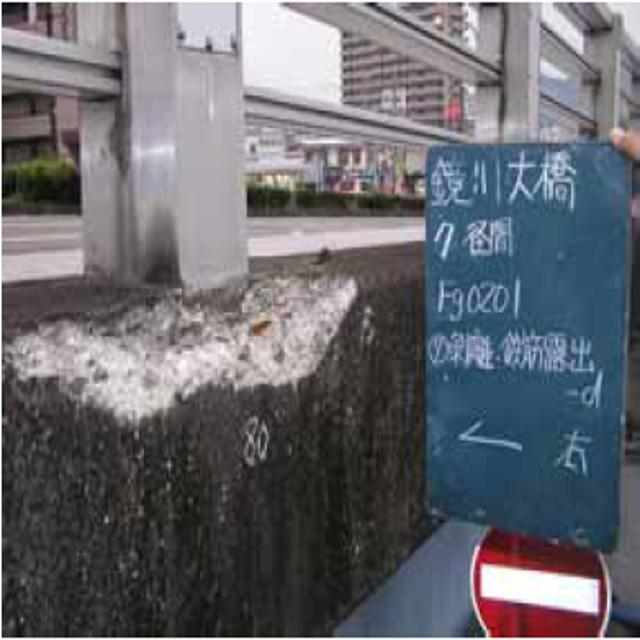spalling: (10, 283, 366, 421)
